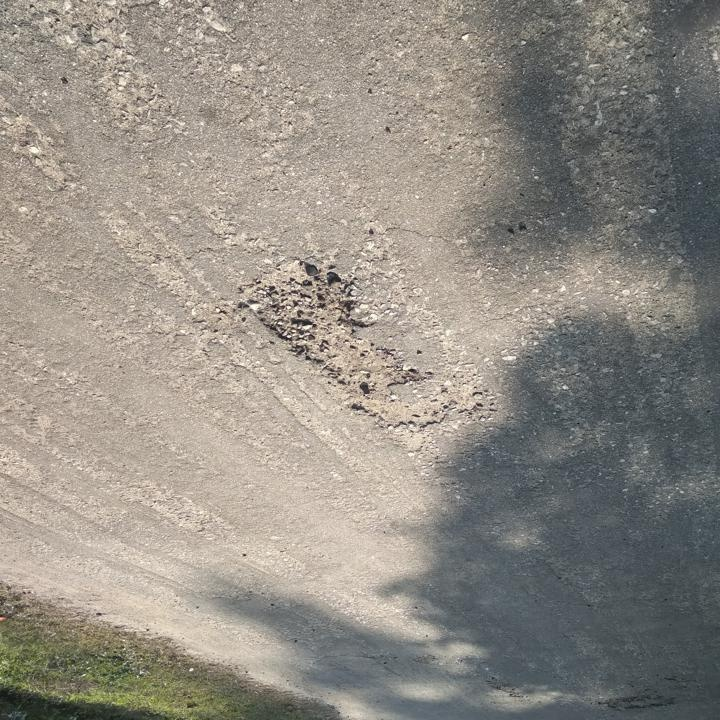pothole: (228, 261, 455, 435)
